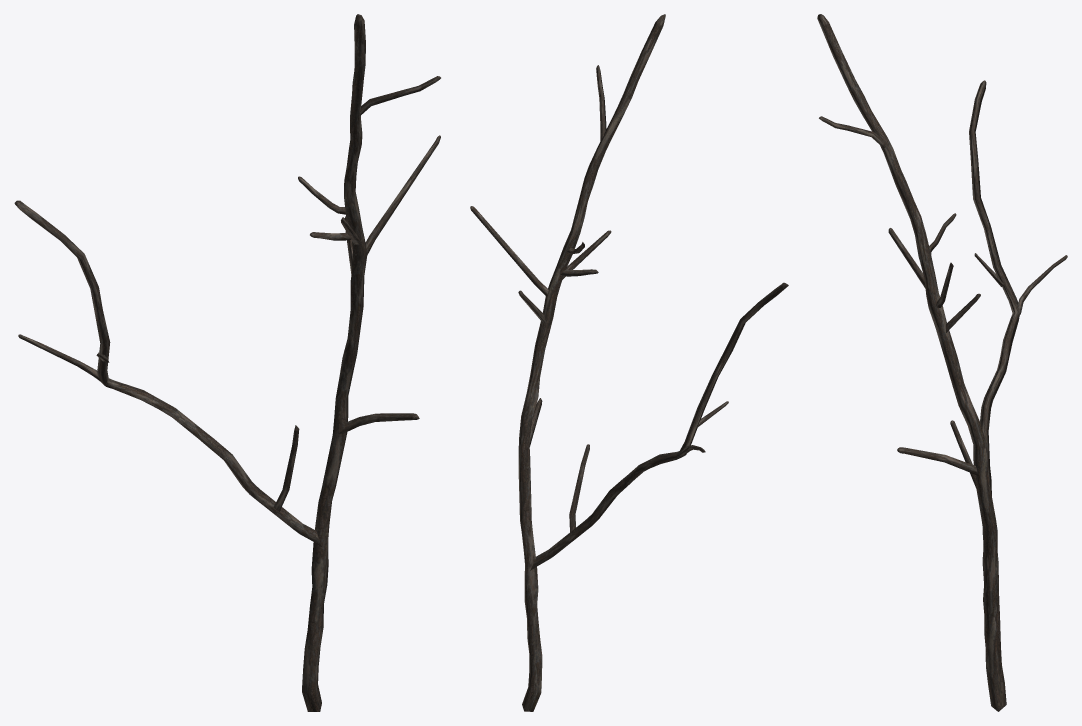
Rendered from Branch_deadwood1_LOD2.fbx.
3 renders of one model, left to right at view 1: azimuth 30°, elevation 25°; view 2: azimuth 150°, elevation 25°; view 3: azimuth 270°, elevation 25°, orthographic. The views are drawn at different scales.
Parts seen in each view (by area): view 1: polySurface4; view 2: polySurface4; view 3: polySurface4.
Boxes of the visible parts, x1,y1,x2,y2 form: polySurface4: (14, 14, 440, 711); polySurface4: (470, 14, 788, 711); polySurface4: (817, 14, 1067, 711).
Size of the model in its own units: 157 by 292 by 98.85.
